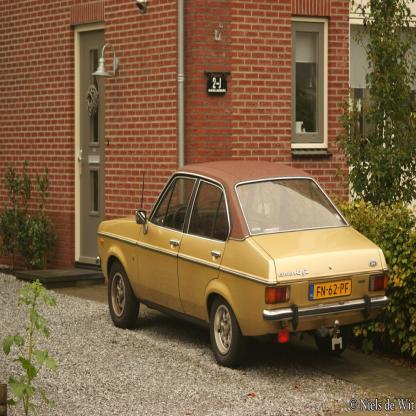Car: (96, 161, 391, 369)
